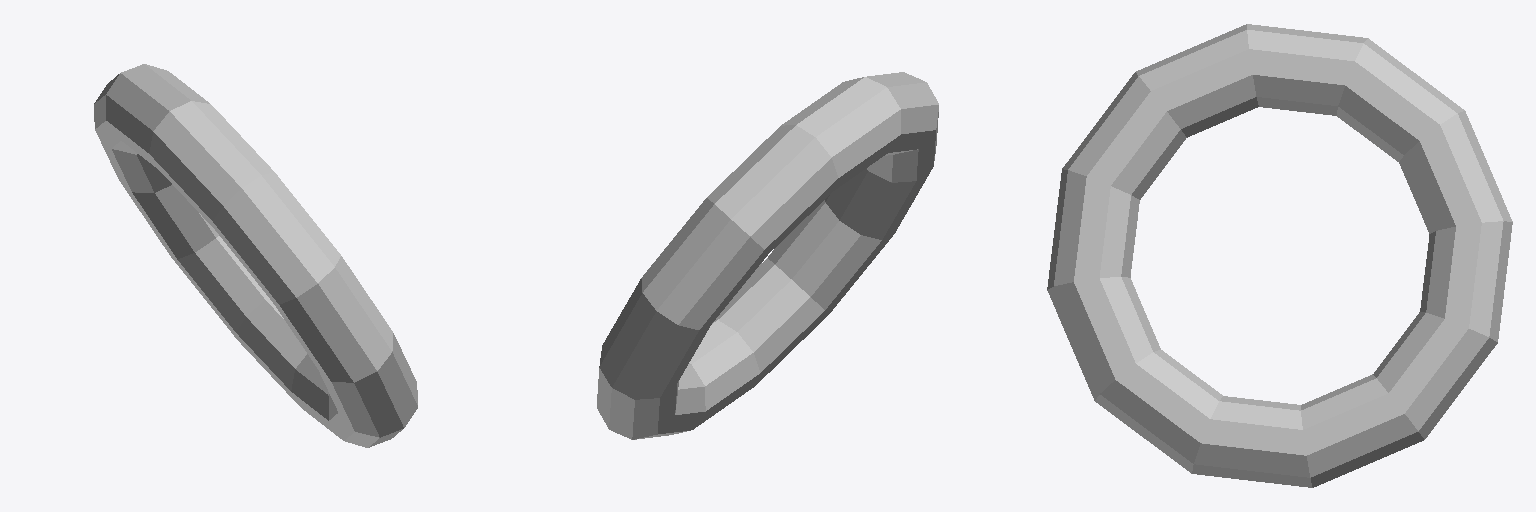
Rendered from one_chain.obj.
The picture shows the model from 3 angles: view 1: azimuth 30°, elevation 25°; view 2: azimuth 150°, elevation 25°; view 3: azimuth 270°, elevation 25°; orthographic projection.
Parts seen in each view (by area): view 1: Torus.001; view 2: Torus.001; view 3: Torus.001.
Part boxes in pixels (x1,y1,x2,y2): Torus.001: (94, 64, 417, 447); Torus.001: (597, 72, 938, 439); Torus.001: (1047, 24, 1512, 487).
Size of the model in its own units: 3.03 by 4.5 by 5.08.